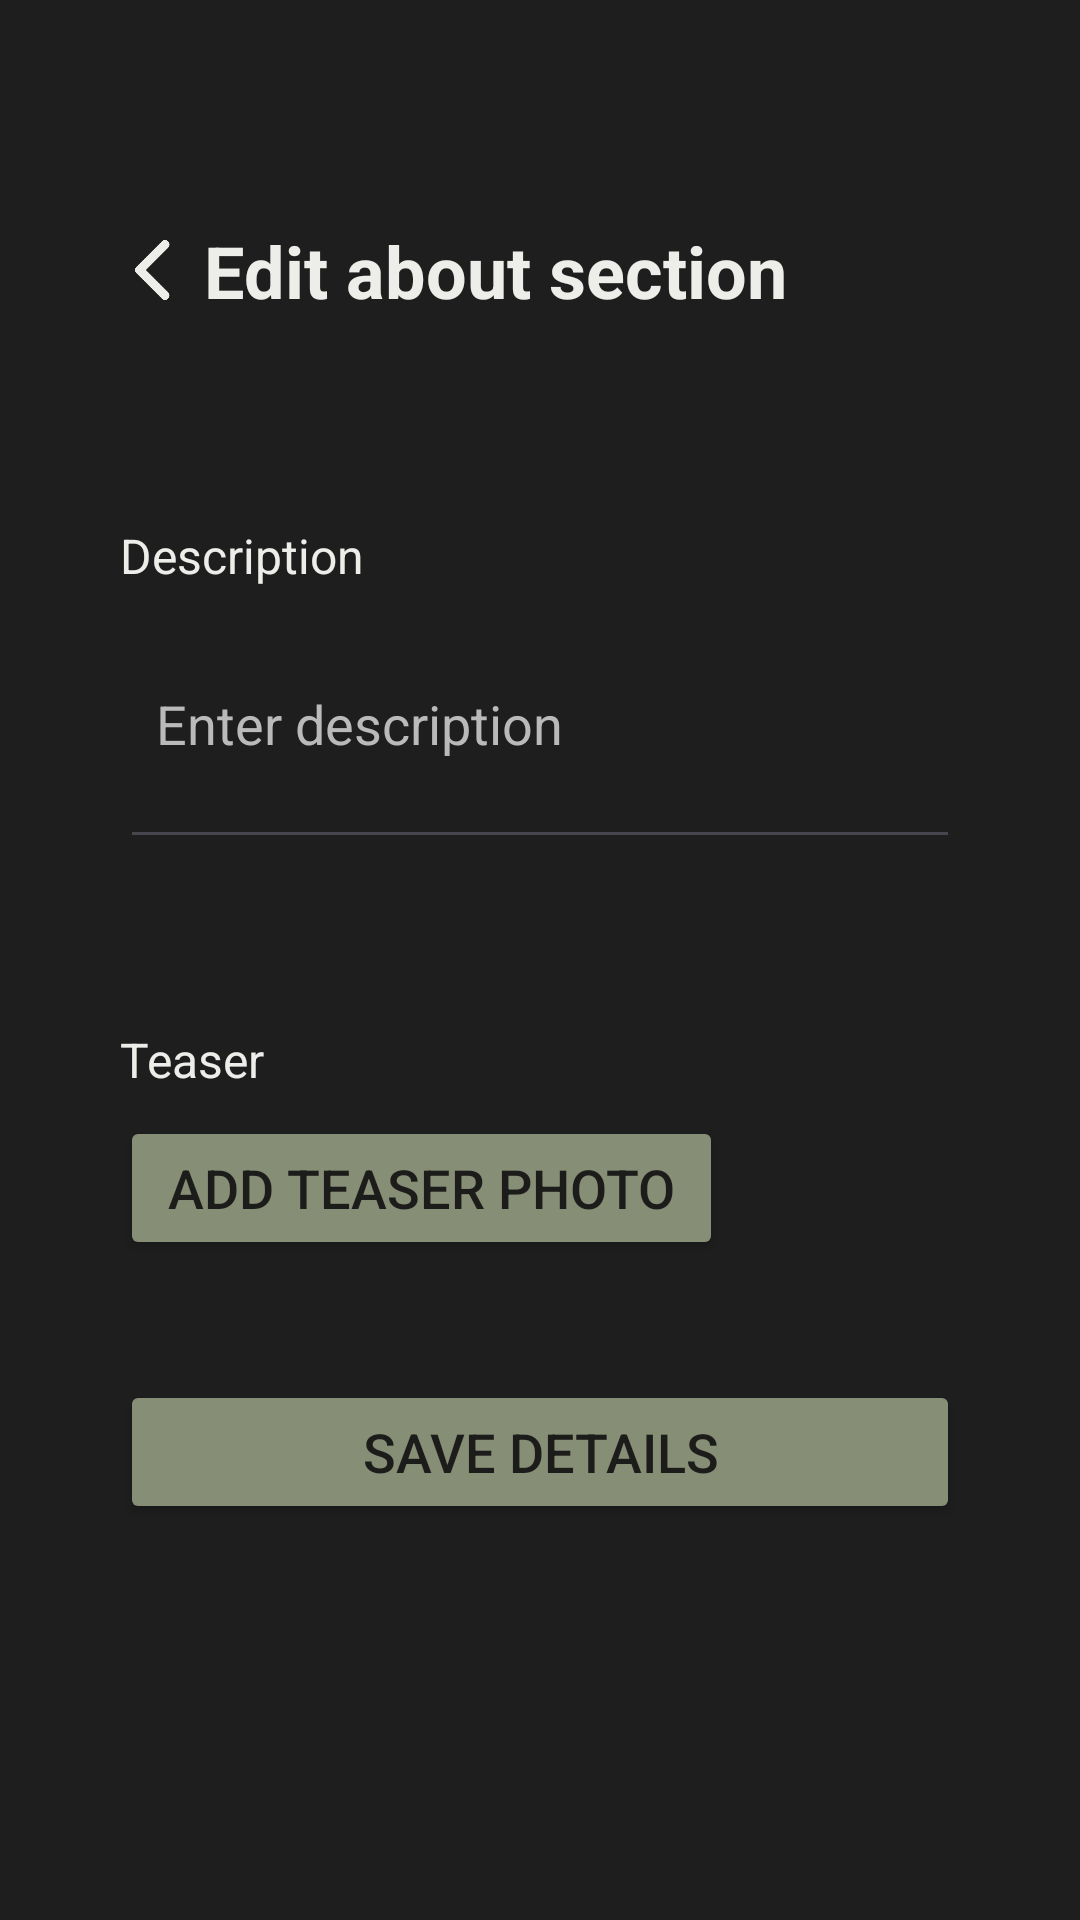

Icon click points for this 1080 × 1920 phone screenshot, format (x,y):
back: (152,270)
